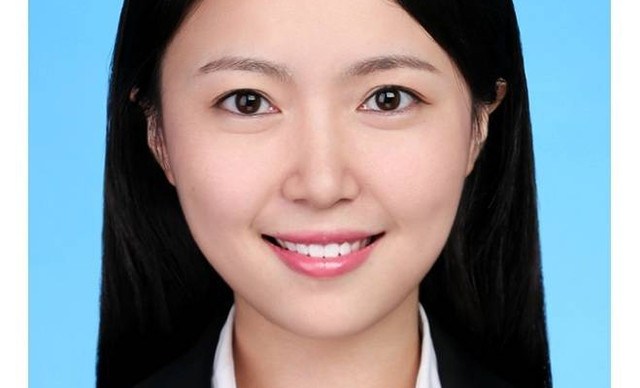unmask: (165, 12, 463, 303)
